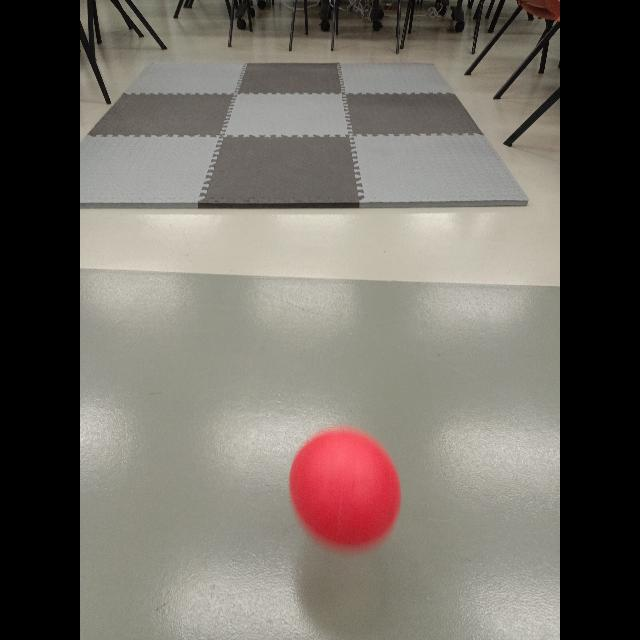R: (290, 428, 400, 548)
